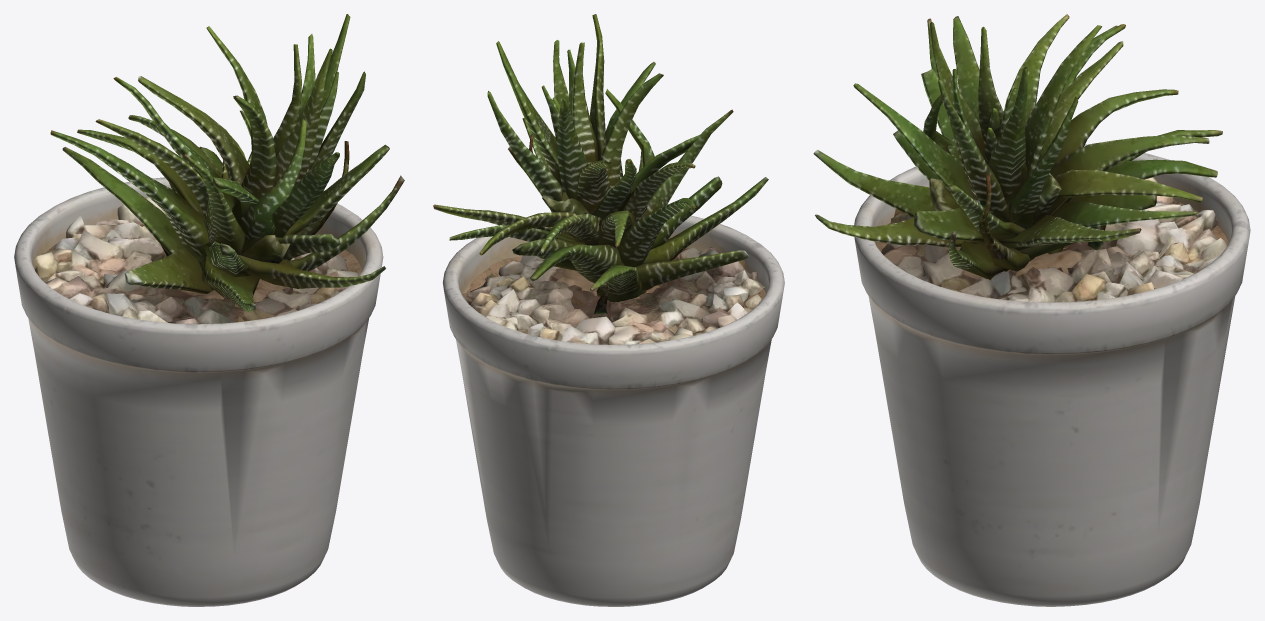
The model's file is potted_plant_04.glb.
3 renders of one model, left to right at view 1: azimuth 30°, elevation 25°; view 2: azimuth 150°, elevation 25°; view 3: azimuth 270°, elevation 25°, orthographic. The views are drawn at different scales.
Parts seen in each view (by area): view 1: potted_plant_04_ground; view 2: potted_plant_04_ground; view 3: potted_plant_04_ground.
Part boxes in pixels (<box>): potted_plant_04_ground: <box>14,14,404,606</box>; potted_plant_04_ground: <box>433,14,784,606</box>; potted_plant_04_ground: <box>813,14,1250,606</box>.
Size of the model in its own units: 0.1679 by 0.2675 by 0.1848.
1 material, 1 textured.
